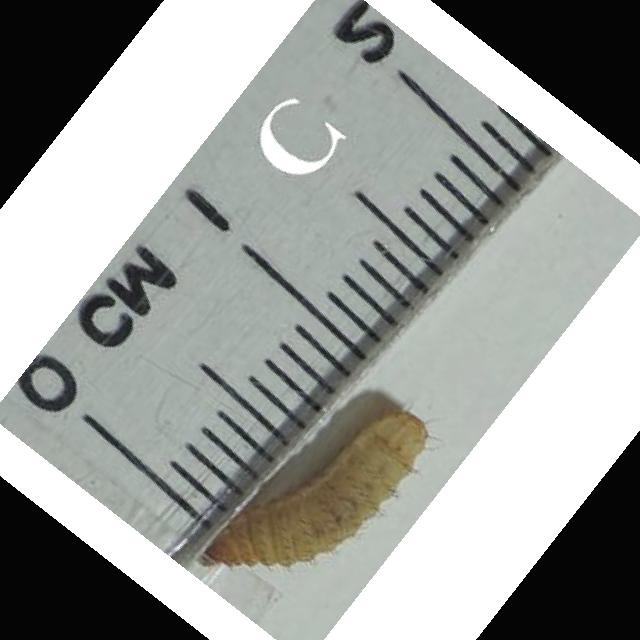Maggot: (197, 408, 431, 571)
